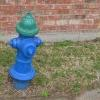a fire hydrant: (12, 11, 46, 95)
